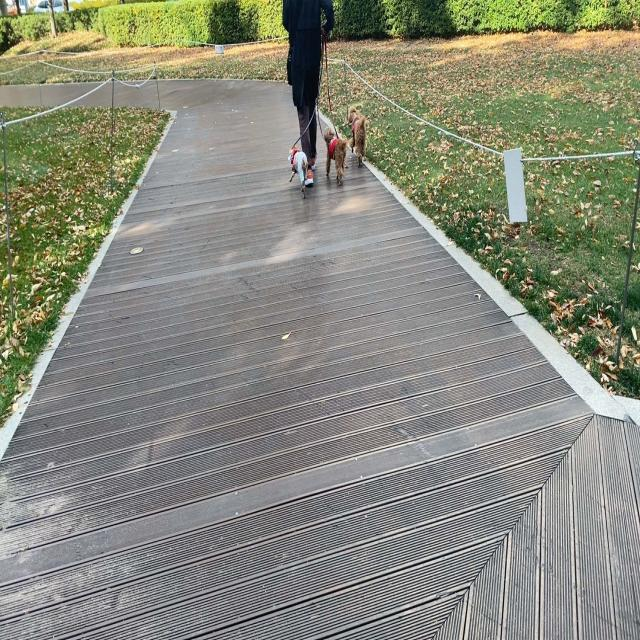Leashed_Dog: (310, 28, 368, 169), (287, 27, 327, 202), (305, 27, 348, 186)
